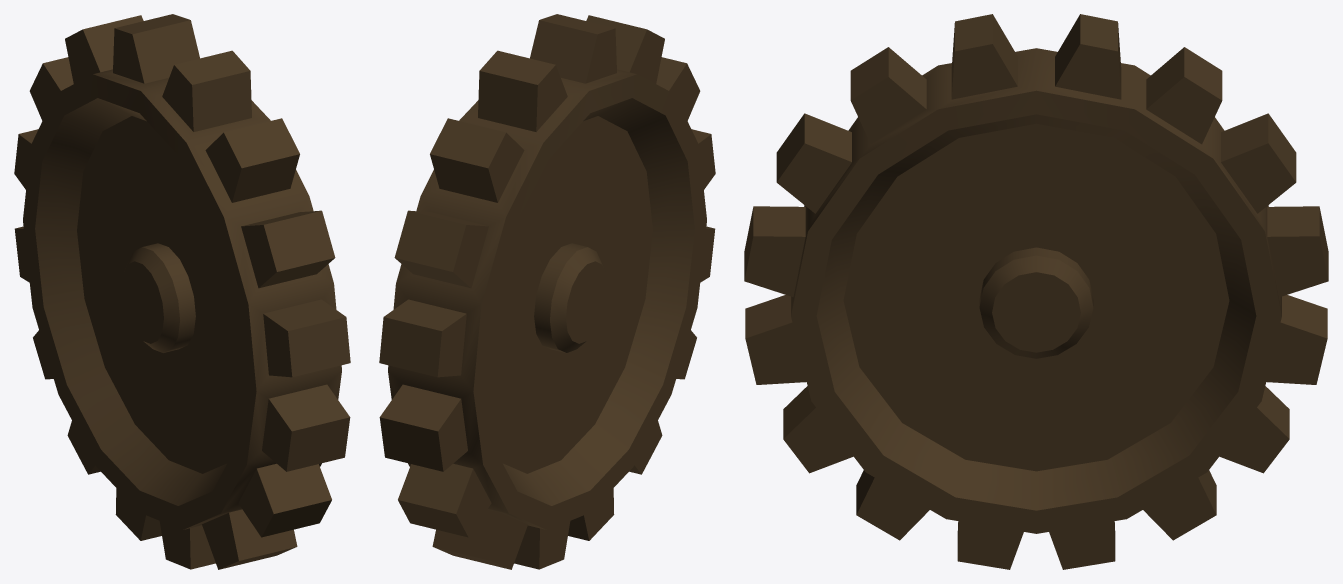
File: Cogwheels_03.fbx
The picture shows the model from 3 angles, left to right: view 1: azimuth 30°, elevation 25°; view 2: azimuth 150°, elevation 25°; view 3: azimuth 270°, elevation 25°; orthographic projection. The views are drawn at different scales.
Visible parts, largest first — view 1: Cylinder.010; view 2: Cylinder.010; view 3: Cylinder.010.
Boxes of the visible parts, box(x1,y1,x2,y2) form: Cylinder.010: box(14, 14, 350, 569); Cylinder.010: box(379, 14, 715, 569); Cylinder.010: box(744, 14, 1328, 569).
Bounding box in the file's own units: 0.0803 × 0.4487 × 0.4516.
